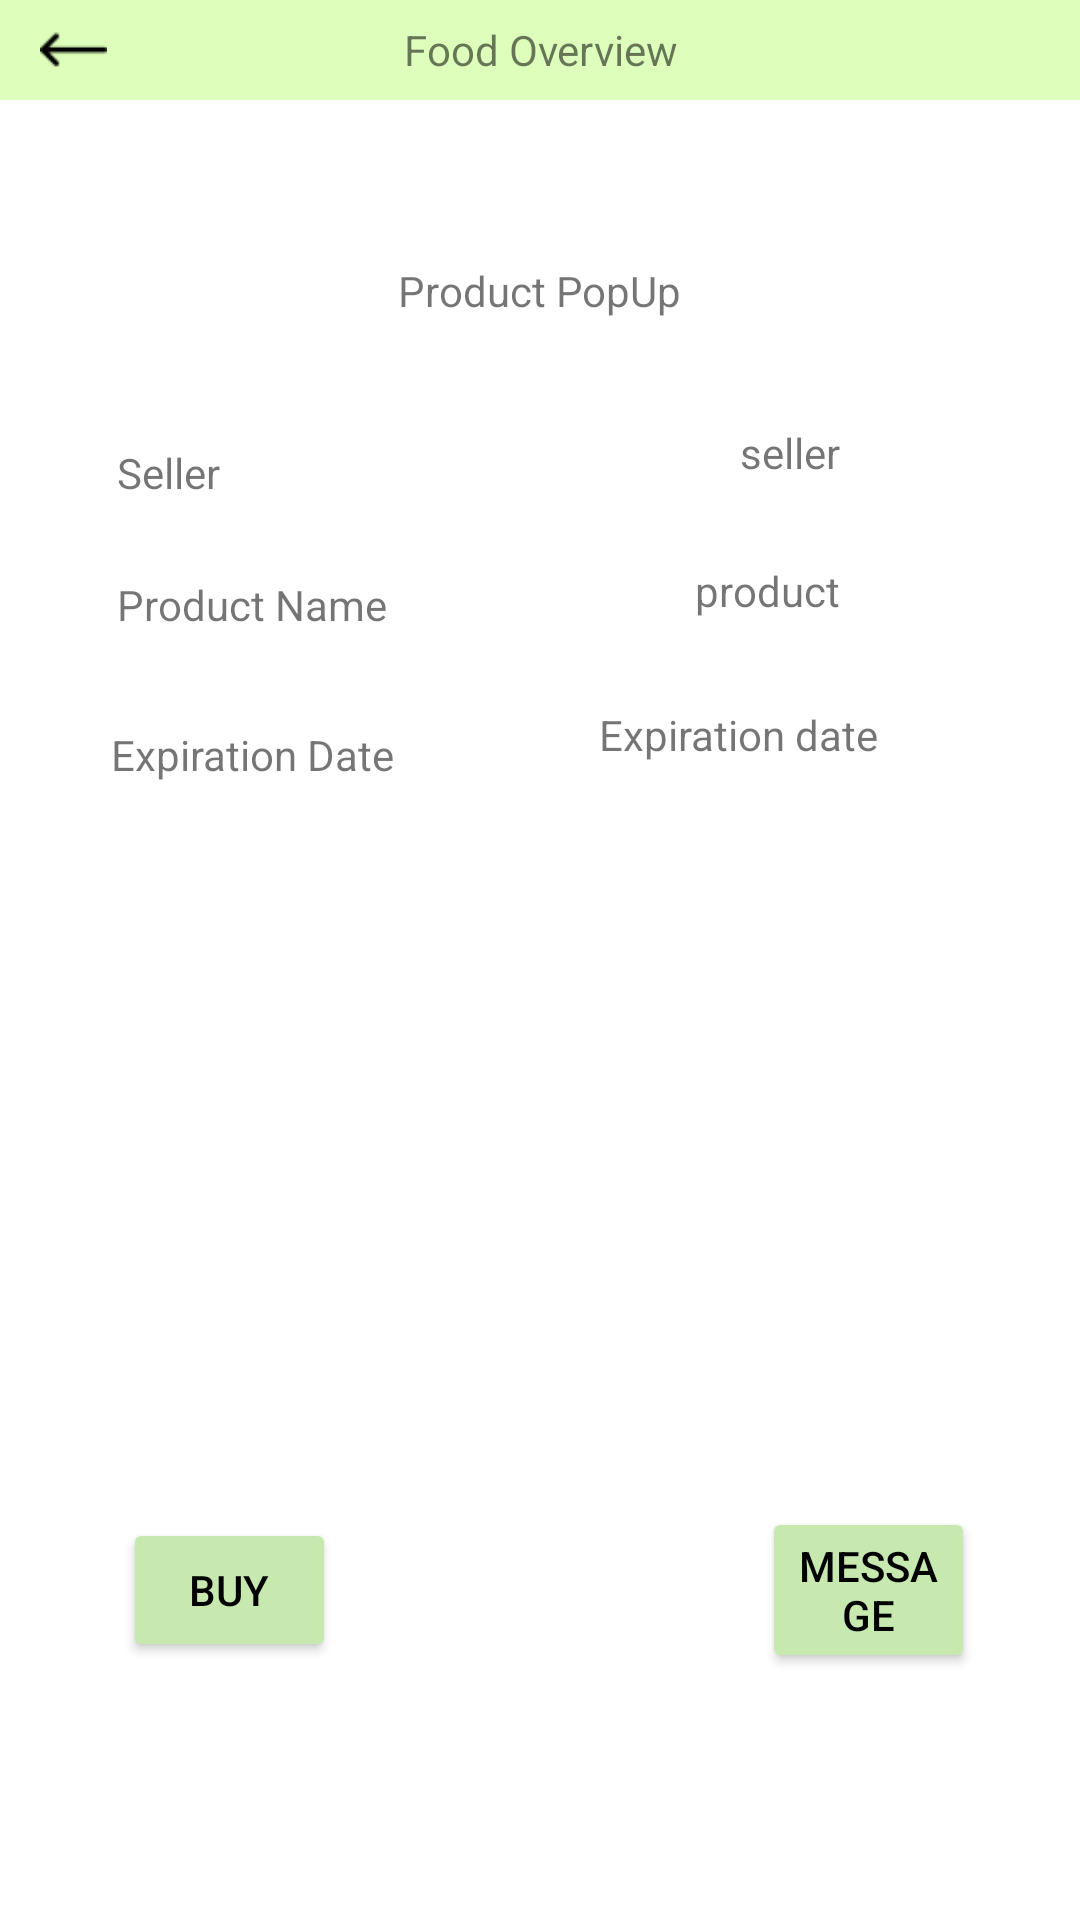

Where to tap for icons on this 1080px×1920px app screen, as point (x, y):
back arrow: point (73, 49)
